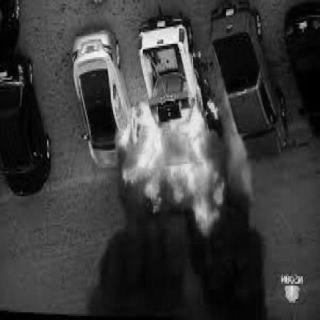Fire: (118, 102, 230, 234)
Smoke: (85, 197, 258, 317)
